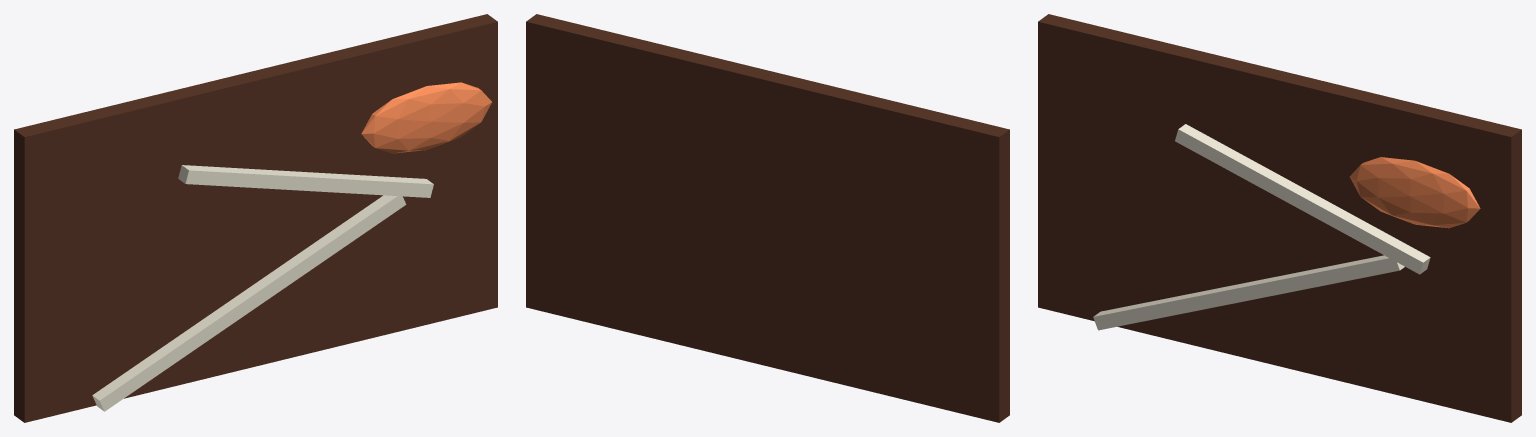
File: 06_weathering_wear_overlay_6.glb
The picture shows the model from 3 angles, left to right: view 1: azimuth 30°, elevation 25°; view 2: azimuth 150°, elevation 25°; view 3: azimuth 330°, elevation 25°; orthographic projection.
Visible parts, largest first — view 1: wear_plate, scratch_a, rust_or_moss_spot, scratch_b; view 2: wear_plate; view 3: wear_plate, rust_or_moss_spot, scratch_b, scratch_a.
Boxes of the visible parts, bbox=[...] form: wear_plate: bbox=[14, 14, 497, 422]; scratch_a: bbox=[92, 195, 406, 411]; rust_or_moss_spot: bbox=[361, 82, 491, 153]; scratch_b: bbox=[178, 165, 433, 197]; wear_plate: bbox=[526, 14, 1009, 422]; wear_plate: bbox=[1038, 14, 1521, 422]; rust_or_moss_spot: bbox=[1349, 157, 1480, 228]; scratch_b: bbox=[1175, 124, 1430, 274]; scratch_a: bbox=[1093, 255, 1404, 330].
Bounding box in the file's own units: 1.3 × 0.75 × 0.134.
